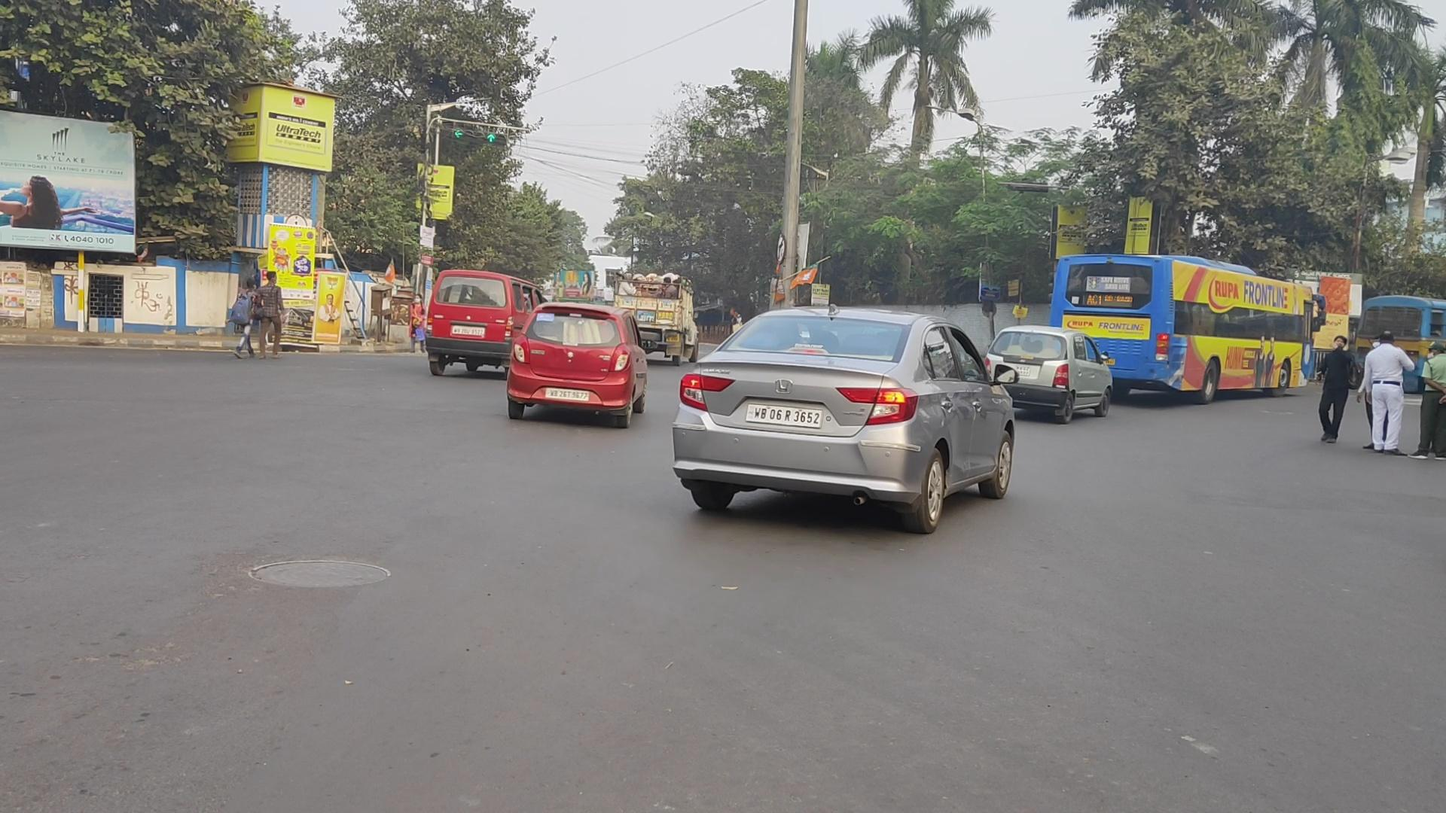Bus: (1050, 254, 1326, 405), (1352, 294, 1446, 394)
car: (673, 303, 1020, 534), (506, 302, 648, 428), (426, 269, 554, 376), (984, 324, 1113, 425)
van: (609, 272, 699, 366)
